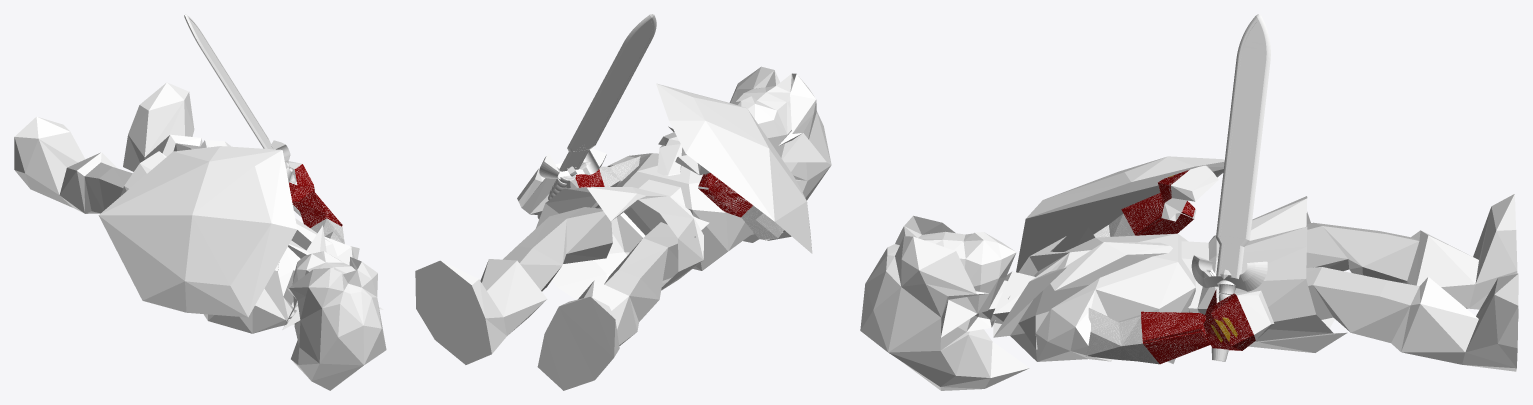
The picture shows the model from 3 angles, left to right: view 1: azimuth 30°, elevation 25°; view 2: azimuth 150°, elevation 25°; view 3: azimuth 270°, elevation 25°; orthographic projection. The views are drawn at different scales.
Parts seen in each view (by area): view 1: link; view 2: link; view 3: link.
Boxes of the visible parts, left/top/right/bottom form: link: left=14, top=14, right=386, bottom=390; link: left=415, top=14, right=831, bottom=390; link: left=860, top=14, right=1518, bottom=390.
Size of the model in its own units: 72.23 by 90.98 by 149.
